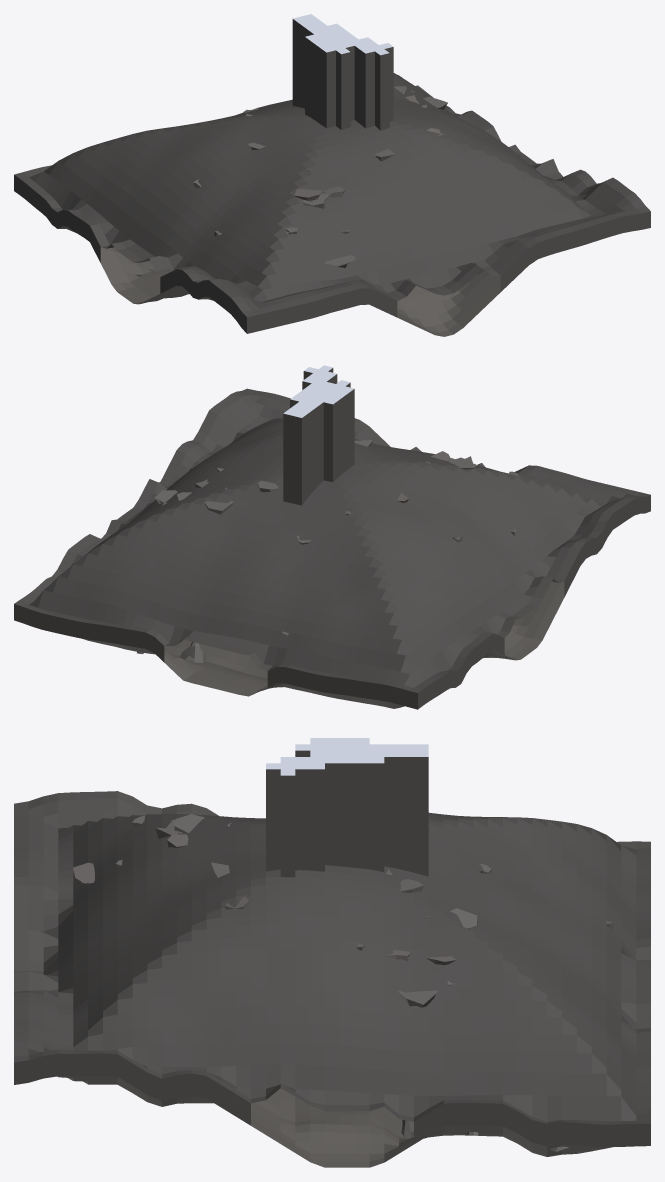
The picture shows the model from 3 angles, top to bottom: view 1: azimuth 30°, elevation 25°; view 2: azimuth 150°, elevation 25°; view 3: azimuth 270°, elevation 25°; orthographic projection. The views are drawn at different scales.
Visible parts, largest first — view 1: CavernVault, CavernWalls, CavernShaft, CavernFloor, CavernSkyCap, CavernStalactites, CavernColumns; view 2: CavernVault, CavernWalls, CavernFloor, CavernShaft, CavernSkyCap, CavernStalactites; view 3: CavernVault, CavernShaft, CavernWalls, CavernFloor, CavernSkyCap, CavernStalactites, CavernColumns.
Boxes of the visible parts, x1=… form: CavernVault: x1=14, y1=73, x2=650, y2=317; CavernWalls: x1=14, y1=175, x2=650, y2=333; CavernShaft: x1=292, y1=19, x2=393, y2=130; CavernFloor: x1=58, y1=226, x2=500, y2=336; CavernSkyCap: x1=293, y1=14, x2=393, y2=55; CavernStalactites: x1=193, y1=86, x2=447, y2=267; CavernColumns: x1=302, y1=128, x2=444, y2=208; CavernVault: x1=14, y1=388, x2=650, y2=692; CavernWalls: x1=14, y1=495, x2=650, y2=709; CavernFloor: x1=82, y1=581, x2=564, y2=708; CavernShaft: x1=283, y1=368, x2=354, y2=505; CavernSkyCap: x1=283, y1=365, x2=353, y2=417; CavernStalactites: x1=154, y1=440, x2=519, y2=638; CavernVault: x1=14, y1=791, x2=650, y2=1124; CavernShaft: x1=266, y1=750, x2=428, y2=877; CavernWalls: x1=14, y1=1053, x2=650, y2=1147; CavernFloor: x1=57, y1=1076, x2=612, y2=1167; CavernSkyCap: x1=266, y1=738, x2=428, y2=775; CavernStalactites: x1=73, y1=814, x2=613, y2=1007; CavernColumns: x1=155, y1=819, x2=249, y2=909.
Bounding box in the file's own units: 92 × 50.06 × 92.
